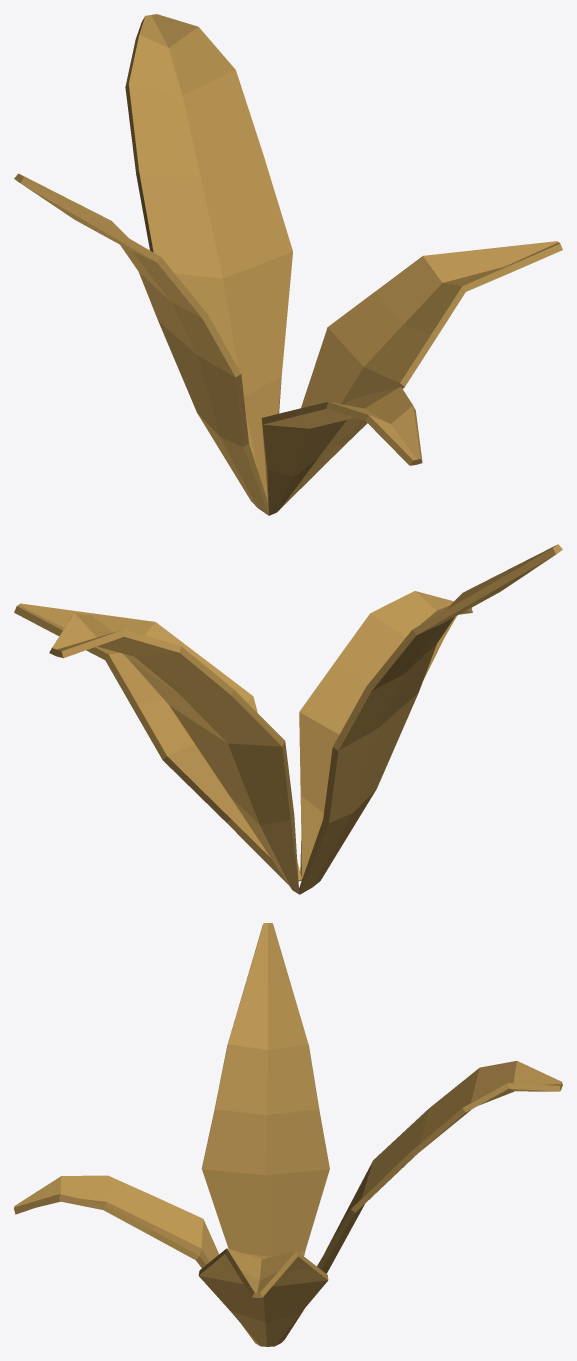
The model's file is 3DObj_Grass_Yellow.fbx.
3 renders of one model, top to bottom at view 1: azimuth 30°, elevation 25°; view 2: azimuth 150°, elevation 25°; view 3: azimuth 270°, elevation 25°, orthographic. The views are drawn at different scales.
Parts seen in each view (by area): view 1: 3DObj_Grass_Yellow; view 2: 3DObj_Grass_Yellow; view 3: 3DObj_Grass_Yellow.
Part boxes in pixels (x1,y1,x2,y2): 3DObj_Grass_Yellow: [14, 14, 562, 515]; 3DObj_Grass_Yellow: [14, 544, 562, 894]; 3DObj_Grass_Yellow: [14, 923, 562, 1346].
Bounding box in the file's own units: 43.86 × 30.67 × 47.44.
